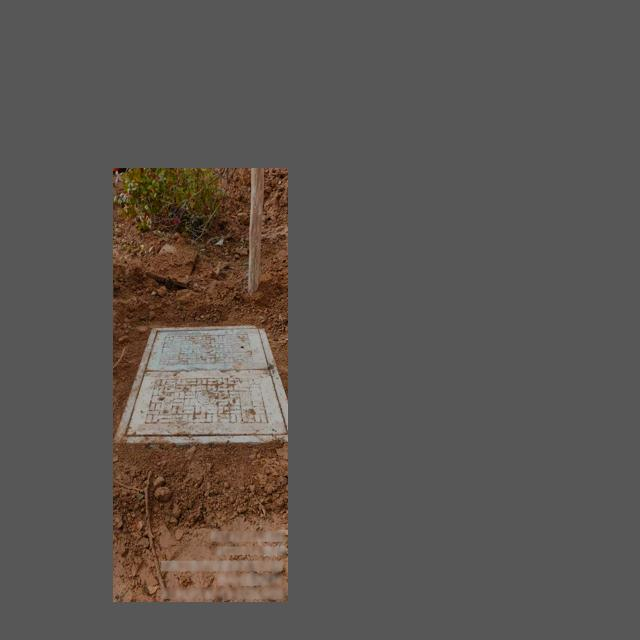good: (117, 319, 288, 443)
